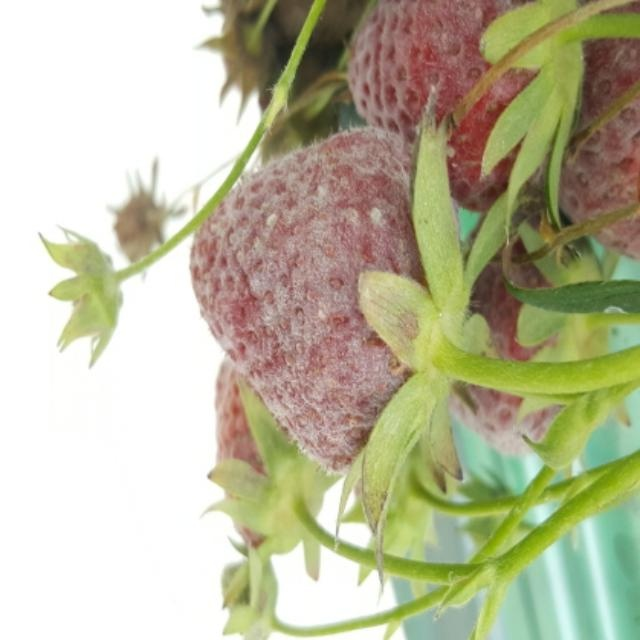Powdery Mildew Fruit: (186, 124, 462, 477), (345, 0, 579, 213), (450, 209, 610, 457), (540, 0, 640, 261)
